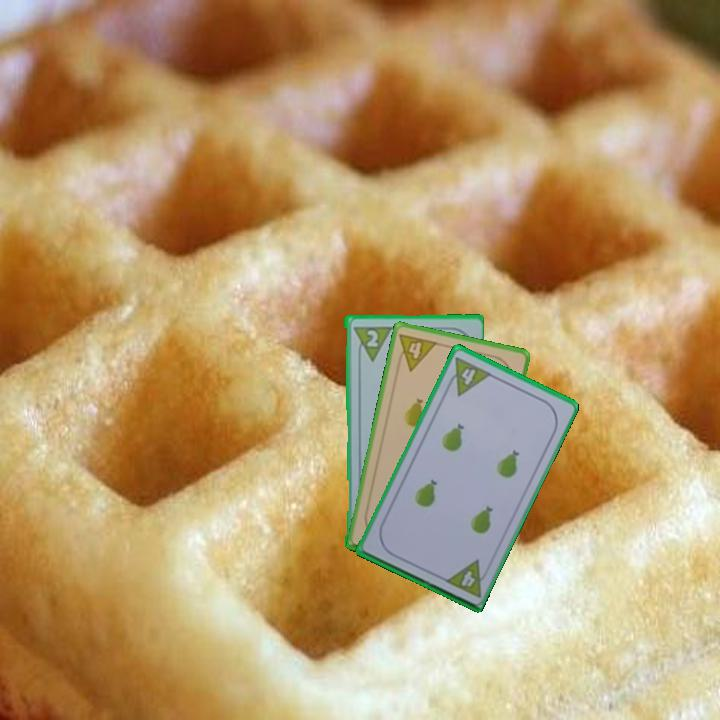2p: (362, 326, 381, 350)
4p: (442, 353, 494, 399), (441, 556, 493, 600), (393, 330, 440, 374)
